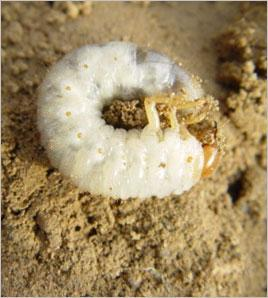grub: (34, 39, 230, 202)
